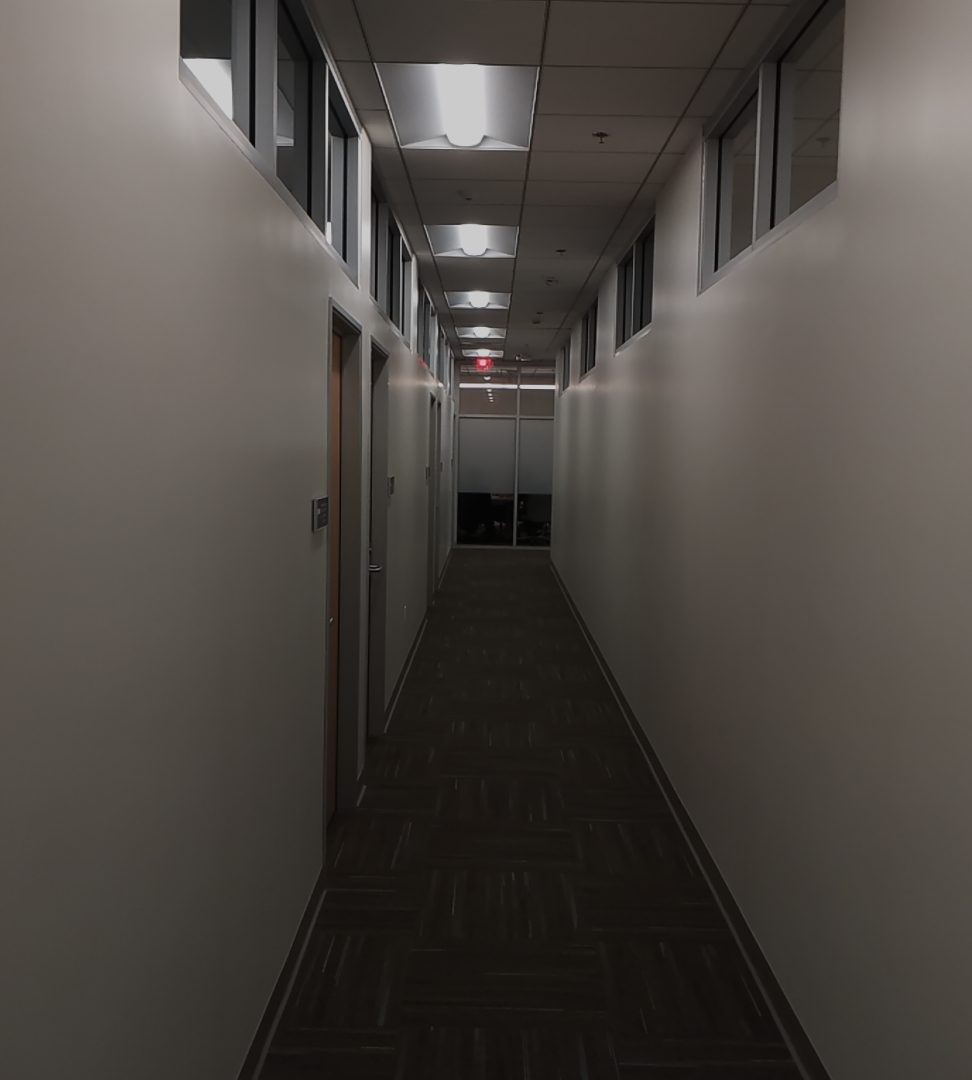emergency_exit: (310, 495, 331, 533), (474, 356, 495, 372)
